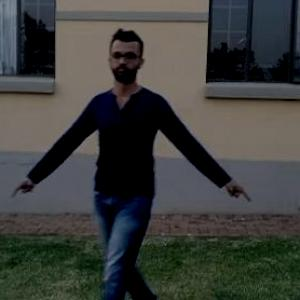land: (38, 44, 212, 299)
